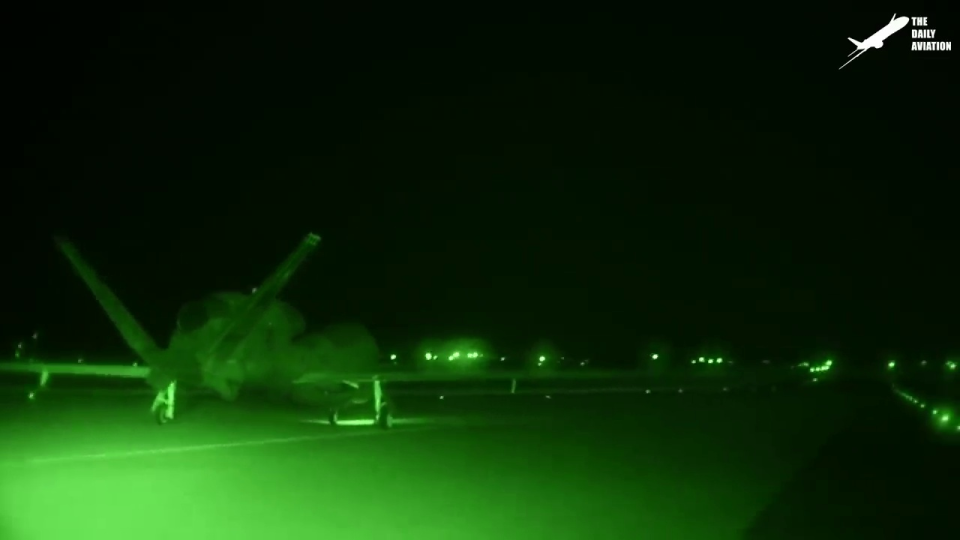military drone: (0, 229, 654, 428)
